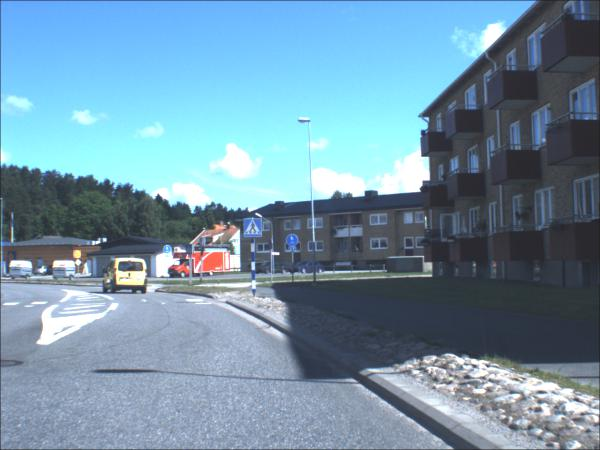50_SIGN: (74, 251, 83, 260)
PEDESTRIAN_CROSSING: (245, 219, 264, 239)
PRIORITY_ROAD: (76, 260, 84, 268)
